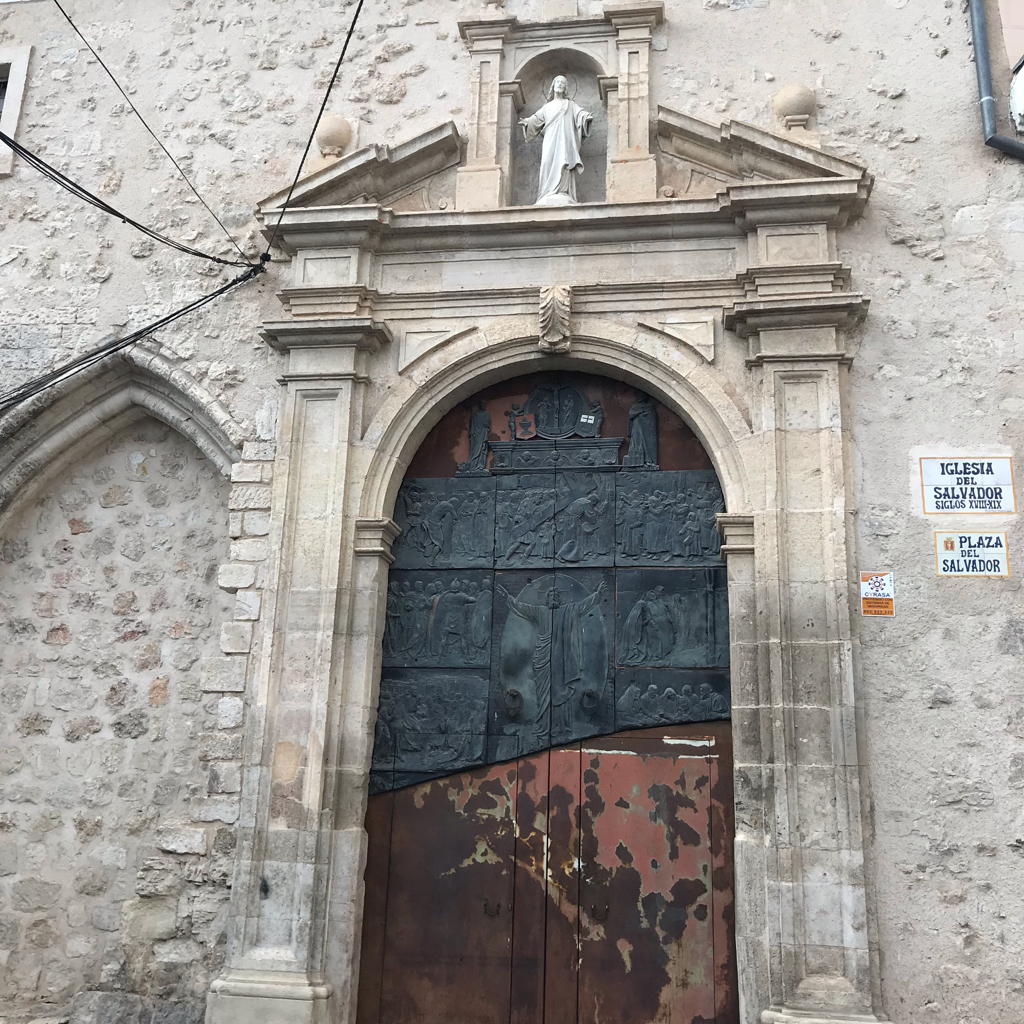arco-medio-punto: (373, 336, 746, 598)
fronton-partido: (251, 102, 873, 233)
